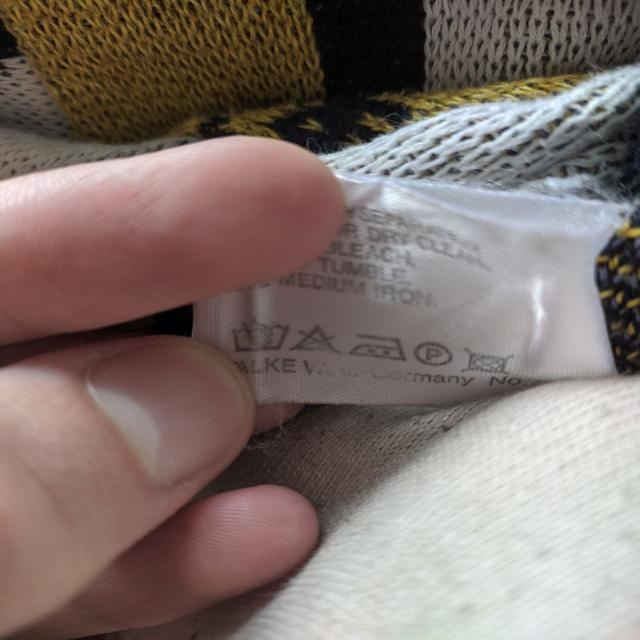DN_bleach: (294, 325, 342, 354)
DN_tumble_dry: (461, 343, 518, 374)
dry_clean_any_solvent_except_trichloroethylene: (413, 335, 455, 367)
hand_wash: (231, 313, 292, 354)
iron_medium: (352, 332, 407, 361)
